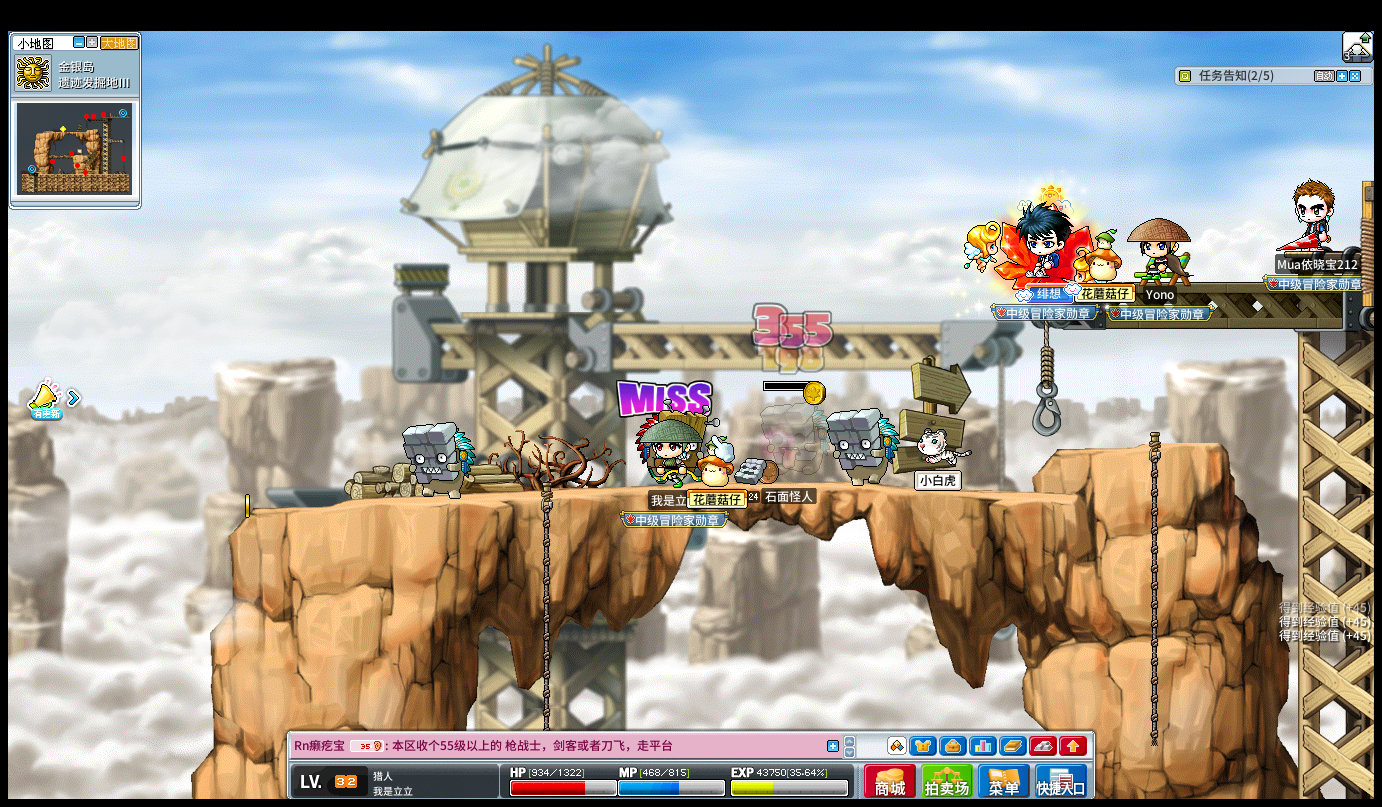floor: (237, 476, 1120, 504), (1053, 440, 1230, 456), (1054, 437, 1225, 453)
monster: (759, 395, 829, 478), (402, 421, 475, 499), (826, 408, 897, 487)
rope: (1145, 426, 1161, 752), (538, 477, 551, 739), (539, 479, 552, 686)
